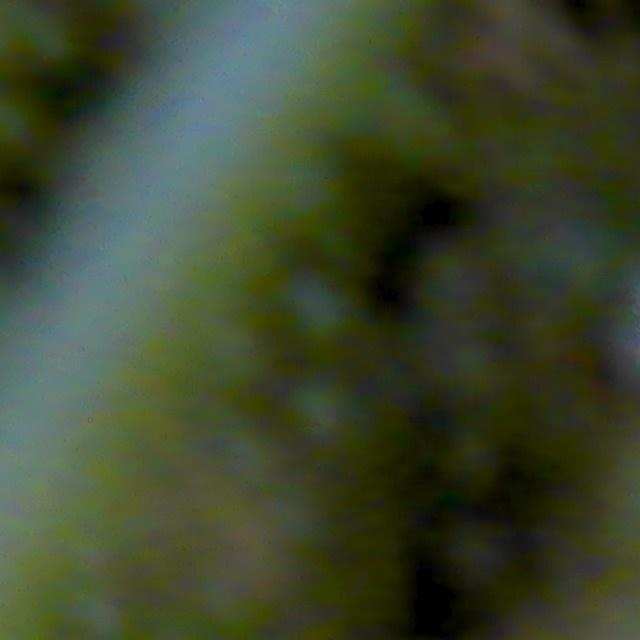SeaGrape: (281, 373, 369, 460), (281, 272, 360, 349)
